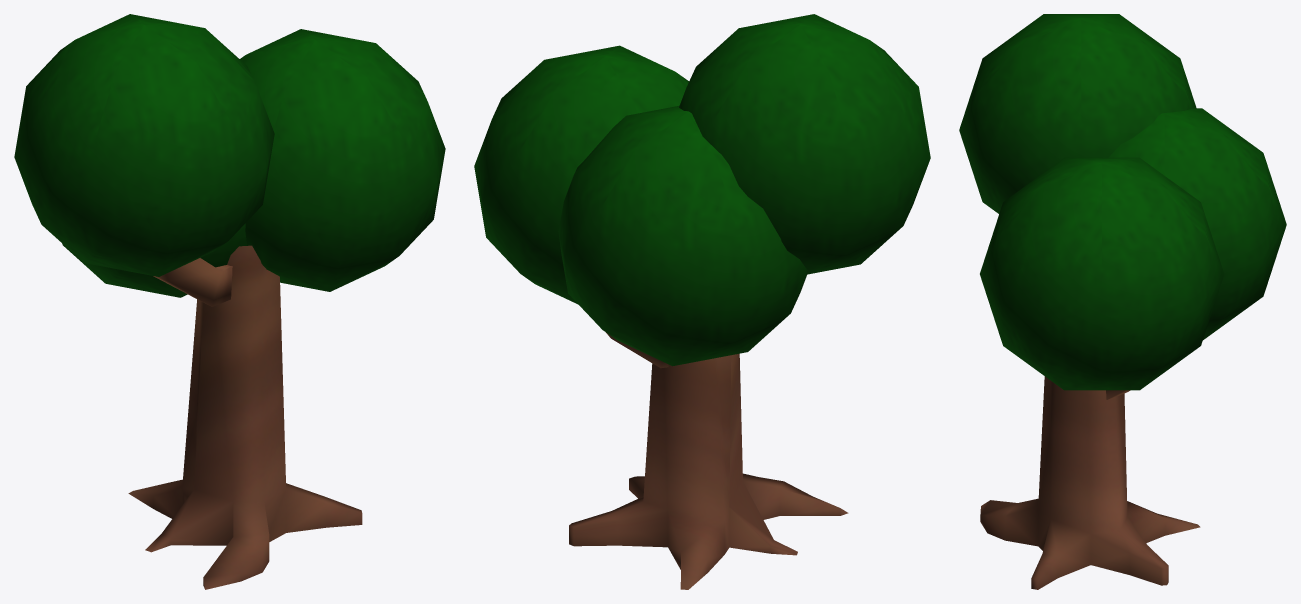
The model's file is mini_oak_tree.fbx.
3 views of the same model, side by side, from view 1: azimuth 30°, elevation 25°; view 2: azimuth 150°, elevation 25°; view 3: azimuth 270°, elevation 25° (orthographic). The views are drawn at different scales.
Visible parts, largest first — view 1: oak tree; view 2: oak tree; view 3: oak tree.
Part boxes in pixels (x1,y1,x2,y2): oak tree: (14, 14, 445, 589); oak tree: (474, 14, 930, 589); oak tree: (959, 14, 1286, 589).
Bounding box in the file's own units: 9.85 × 12.34 × 7.58.
